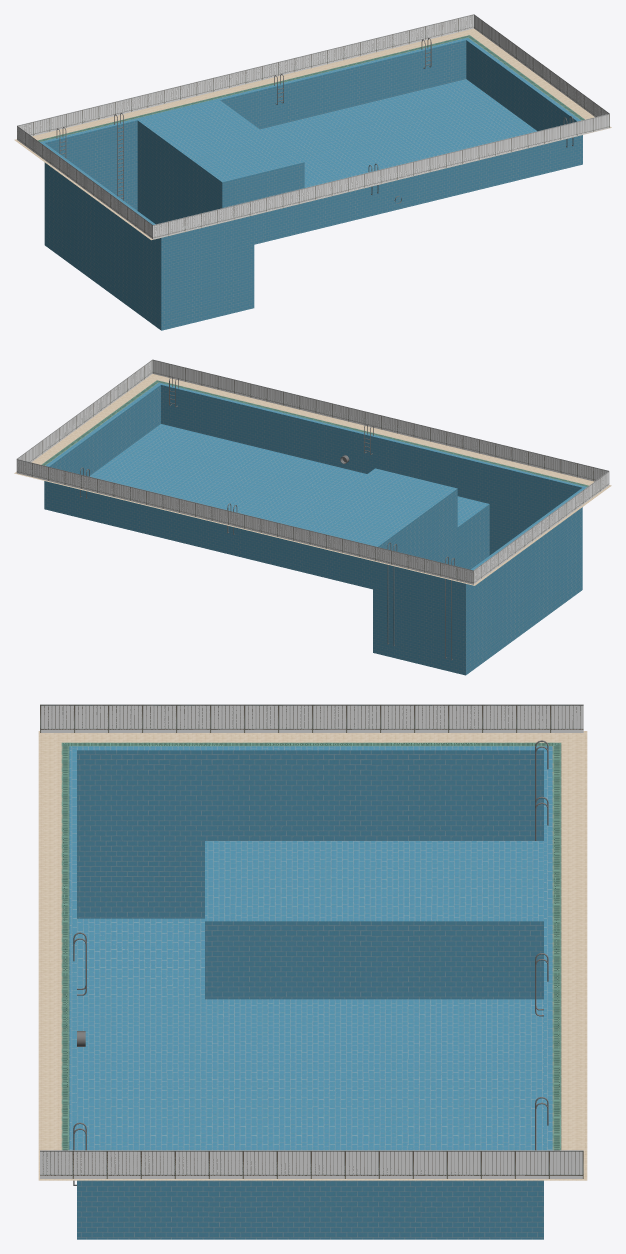
Rendered from ShuiChi.FBX.
The picture shows the model from 3 angles, top to bottom: view 1: azimuth 30°, elevation 25°; view 2: azimuth 150°, elevation 25°; view 3: azimuth 270°, elevation 25°; orthographic projection. The views are drawn at different scales.
Parts seen in each view (by area): view 1: ShuiChi, rail_018; view 2: ShuiChi, rail_018; view 3: ShuiChi, rail_018.
Part boxes in pixels (x1,y1,x2,y2): ShuiChi: (14,28,611,330); rail_018: (17,14,609,239); ShuiChi: (14,374,611,675); rail_018: (16,359,609,584); ShuiChi: (38,731,587,1239); rail_018: (40,704,583,1178).
Bounding box in the file's own units: 3696 × 894 × 1905.
